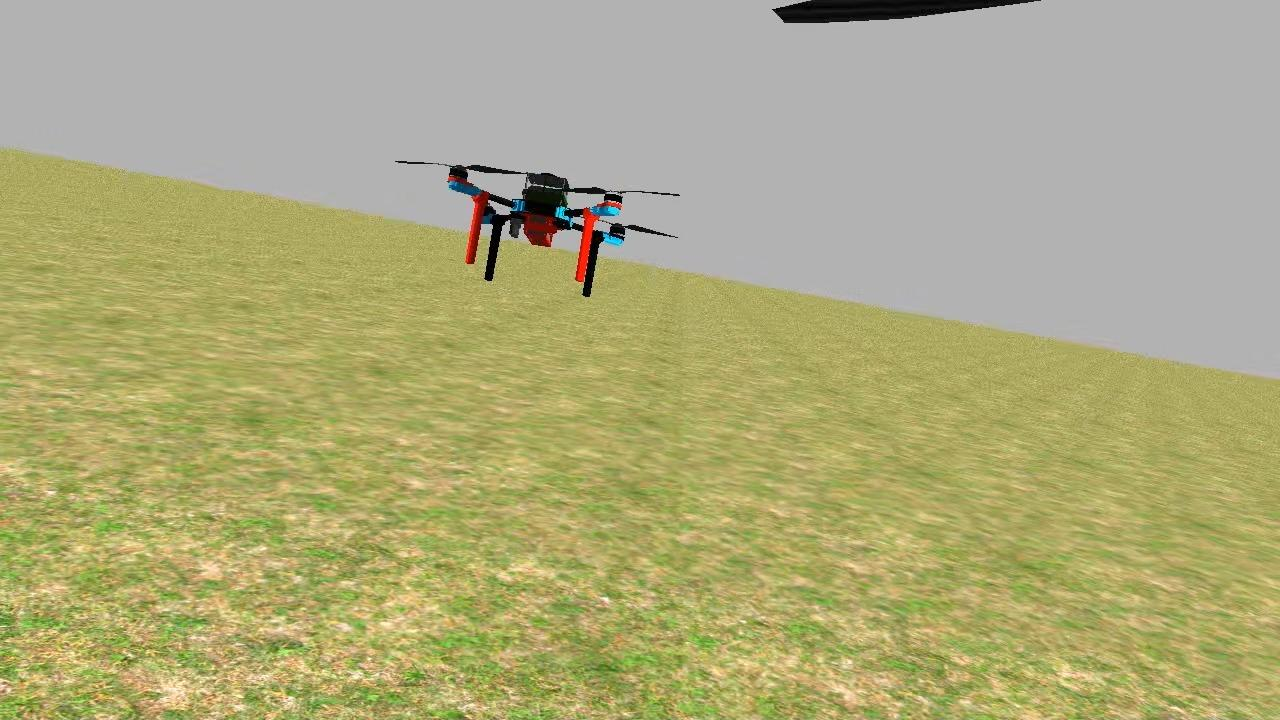UAV: (428, 159, 636, 305)
